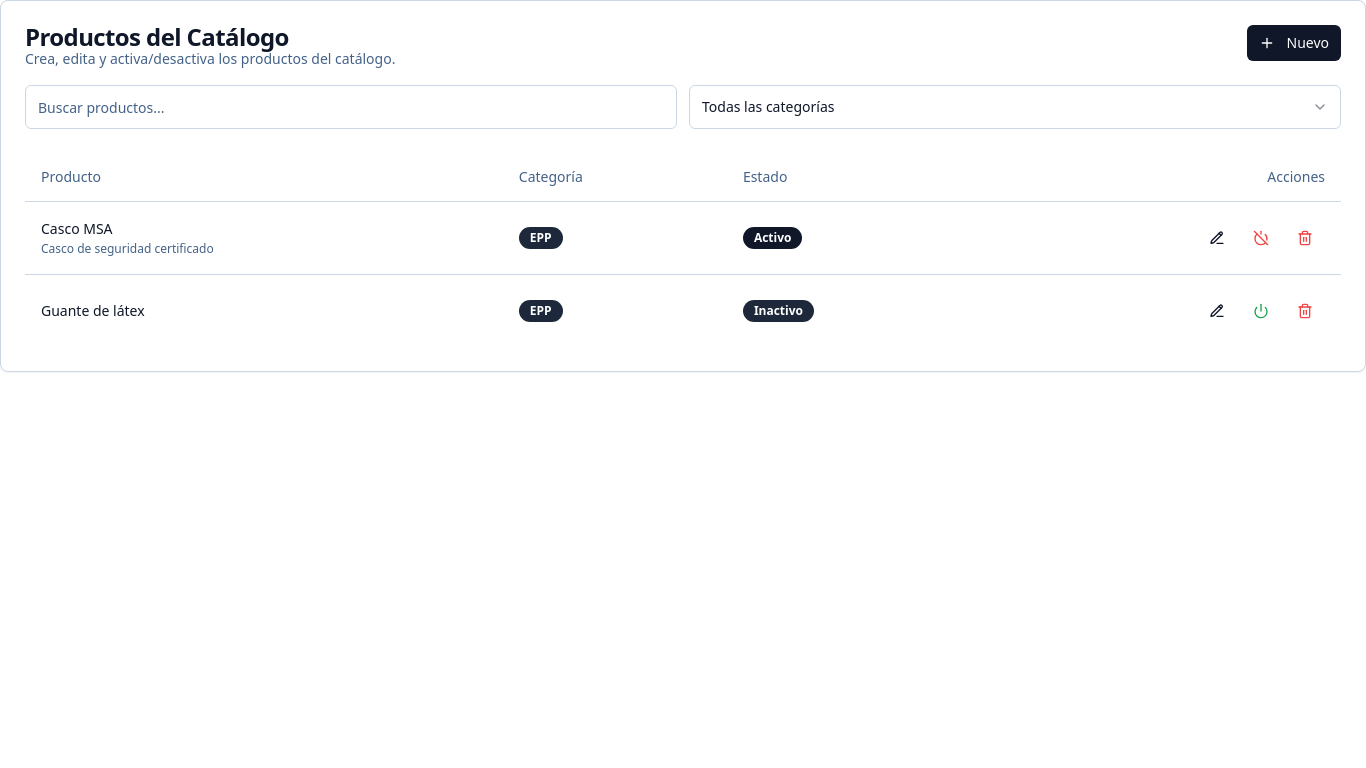
Test: ProductManager — persistence (HU-2.3) › auto-generates slug from name in create dialog
The width and height of the screenshot is (1366, 768).
Expected: the text "Casco MSA" is shown, [41, 218, 113, 238]
Step 1. Click the button "Nuevo" → (1294, 43), box [1246, 25, 1341, 61]
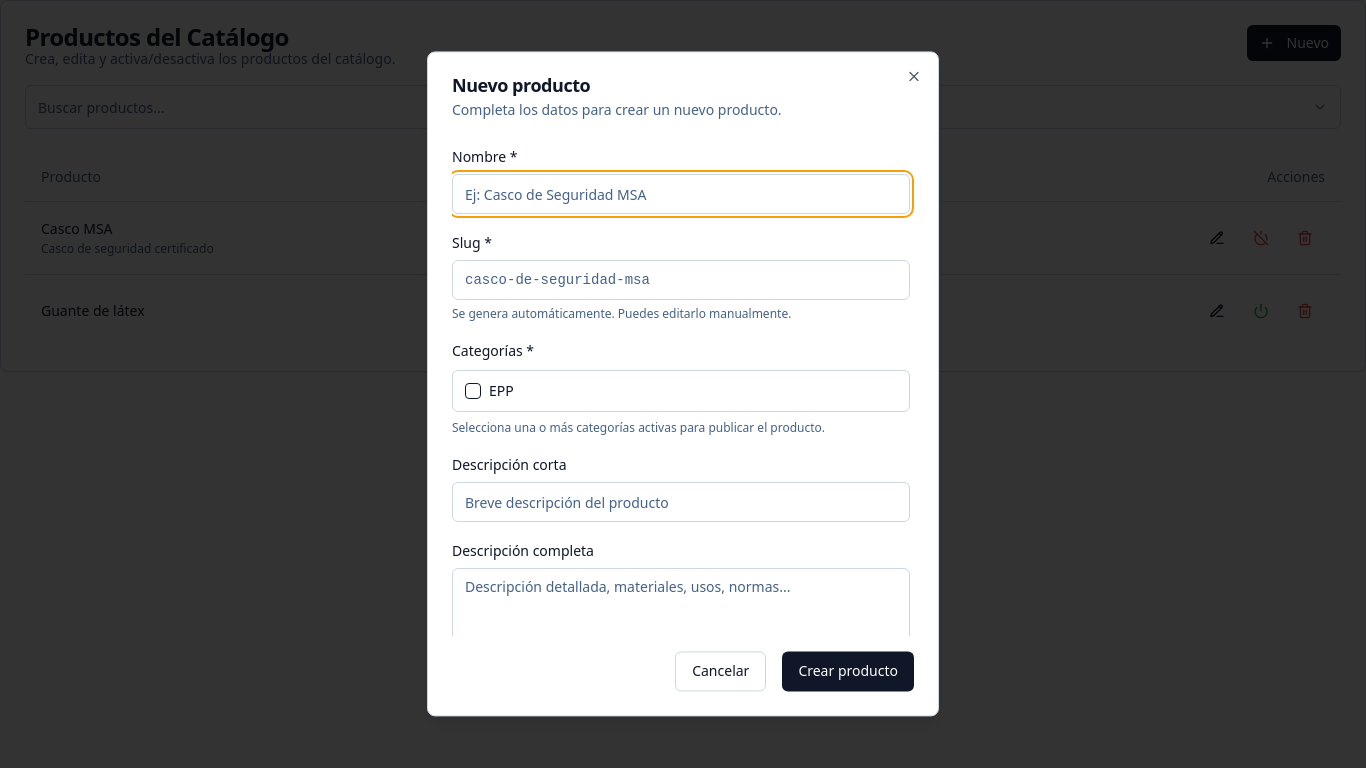
Step 2. Type "Botas de Hule" into the field labelled "Nombre *" → (681, 194), box [452, 174, 910, 214]
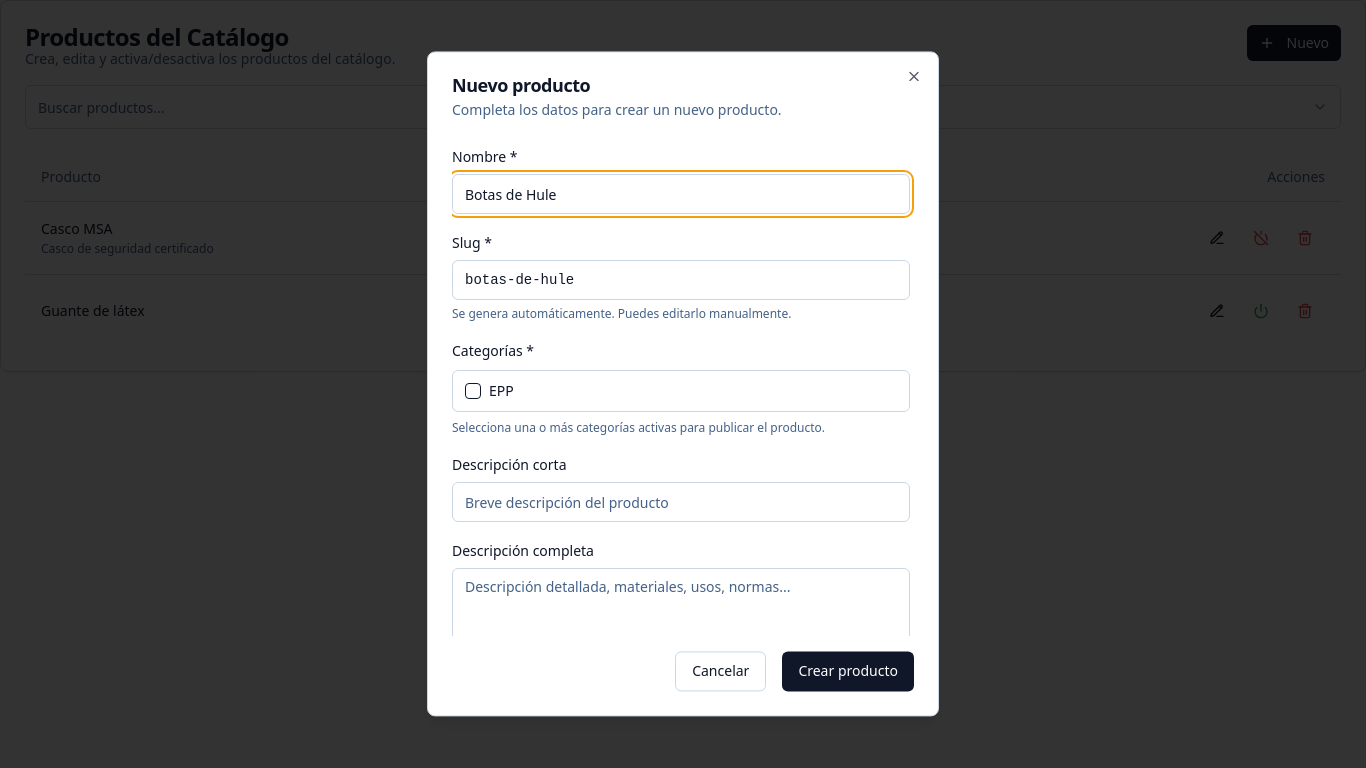
Expected: the field labelled "Slug *" holds "botas-de-hule", [452, 260, 910, 300]
